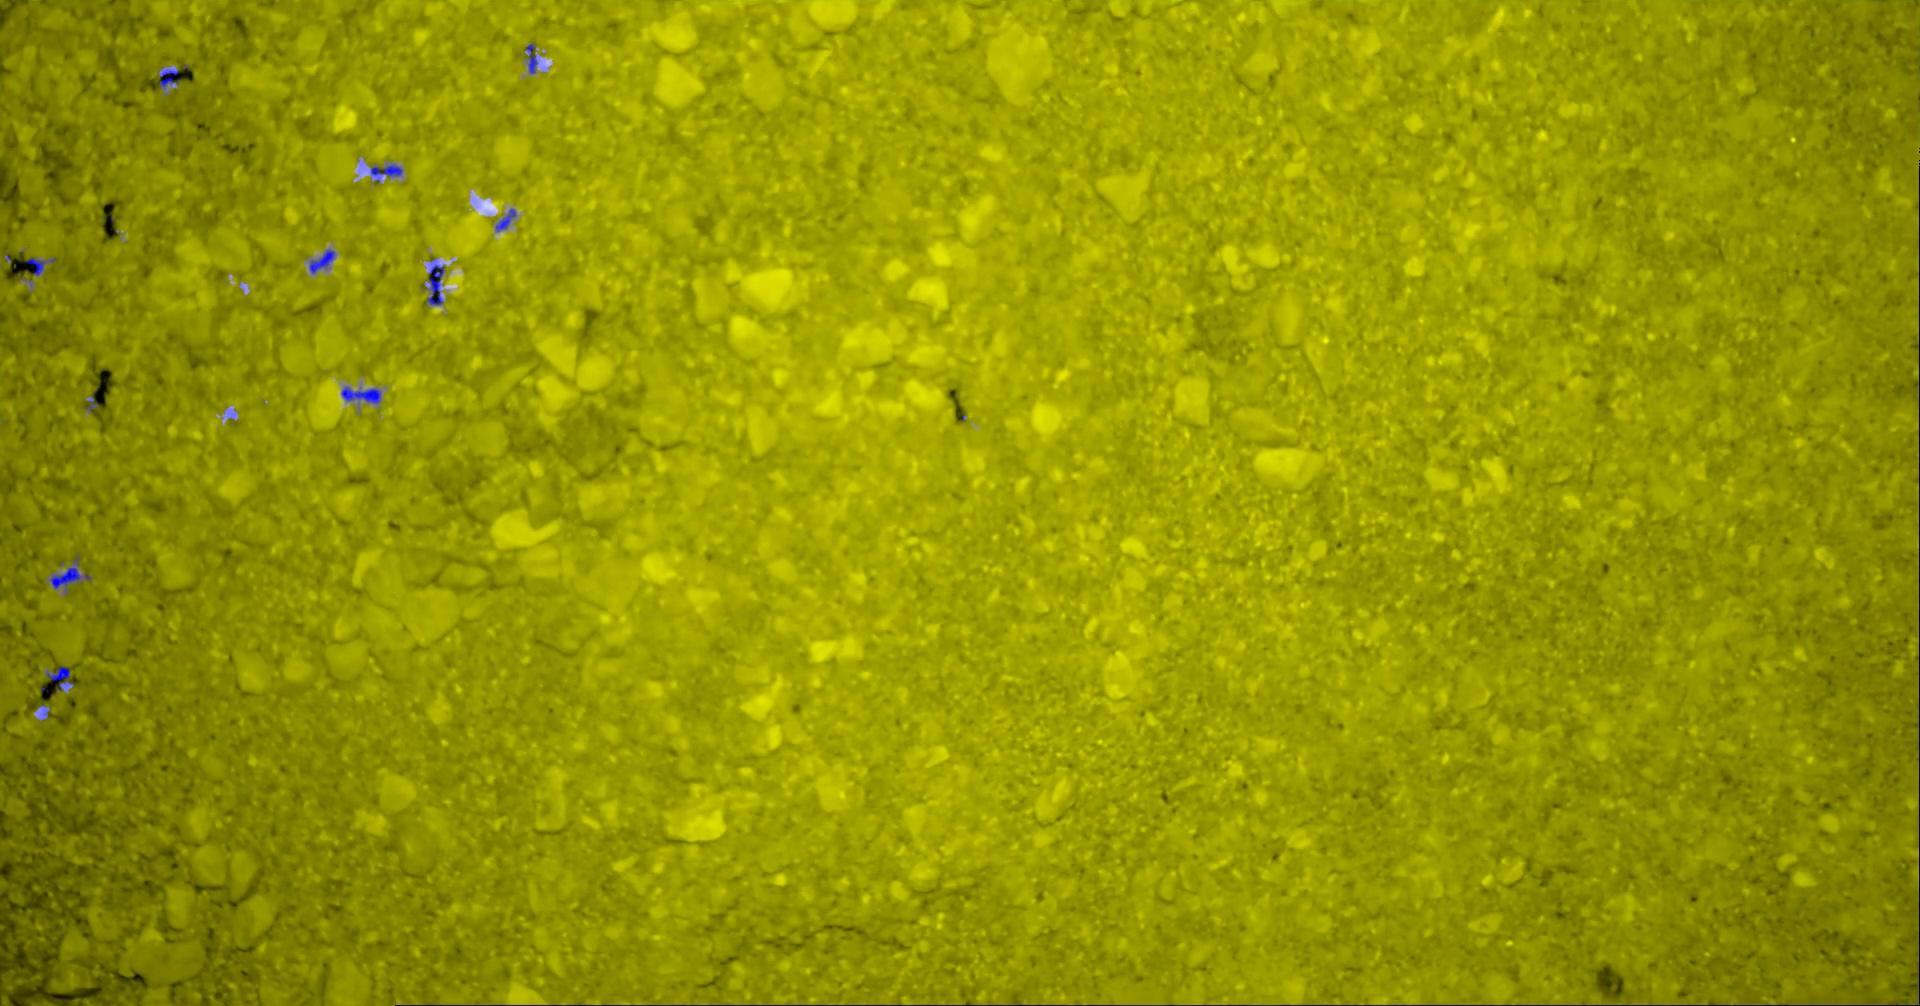ant: (50, 556, 91, 591), (425, 258, 443, 304), (44, 666, 71, 690), (342, 386, 380, 403), (309, 249, 334, 273), (370, 163, 403, 180), (25, 257, 55, 276), (495, 208, 516, 231), (157, 69, 179, 86), (524, 43, 537, 72)
